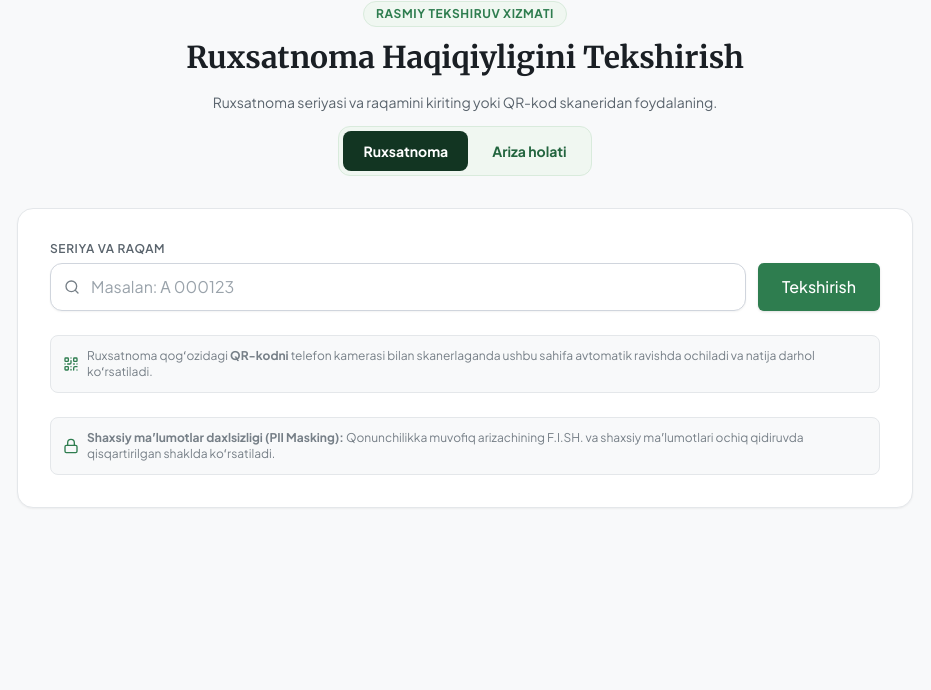
Test: VerifyPage — application arm › never invents field values the API left null
Click the tab "Ariza holati" at point(529, 151), box x1=472 y1=131 x2=586 y2=171
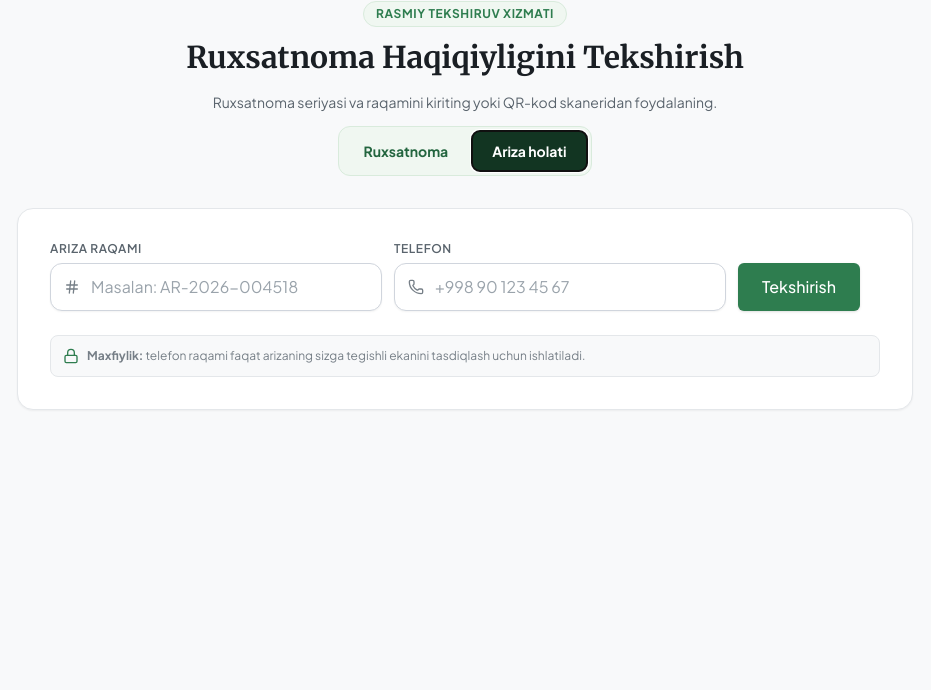
Type "AR-2026-004518" into the field labelled "Ariza raqami" at point(216, 287), box x1=50 y1=263 x2=382 y2=311
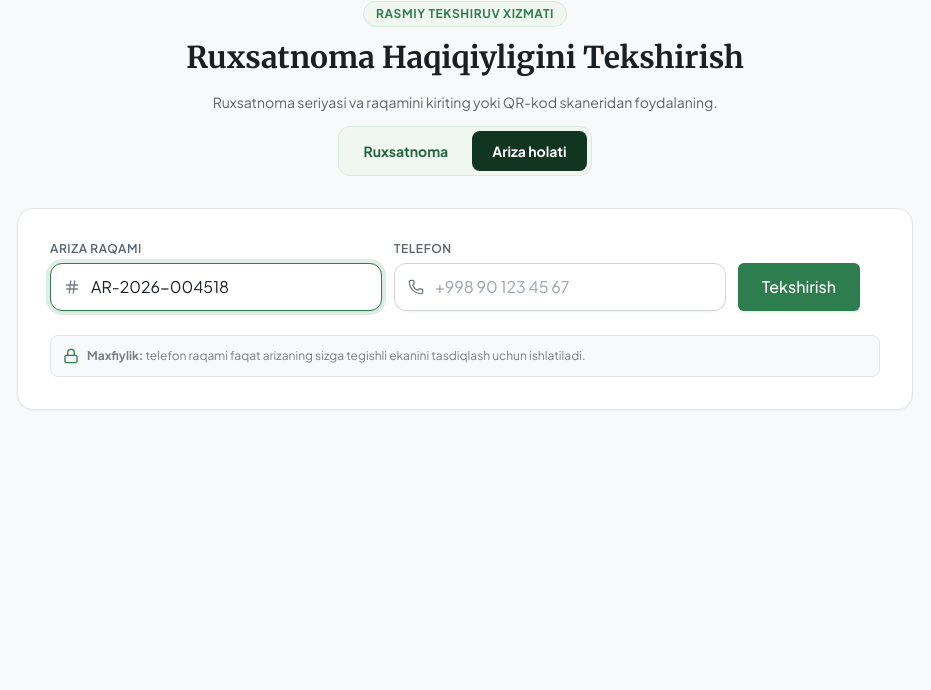
Type "+998901234567" into the field labelled "Telefon" at point(560, 287), box x1=394 y1=263 x2=726 y2=311
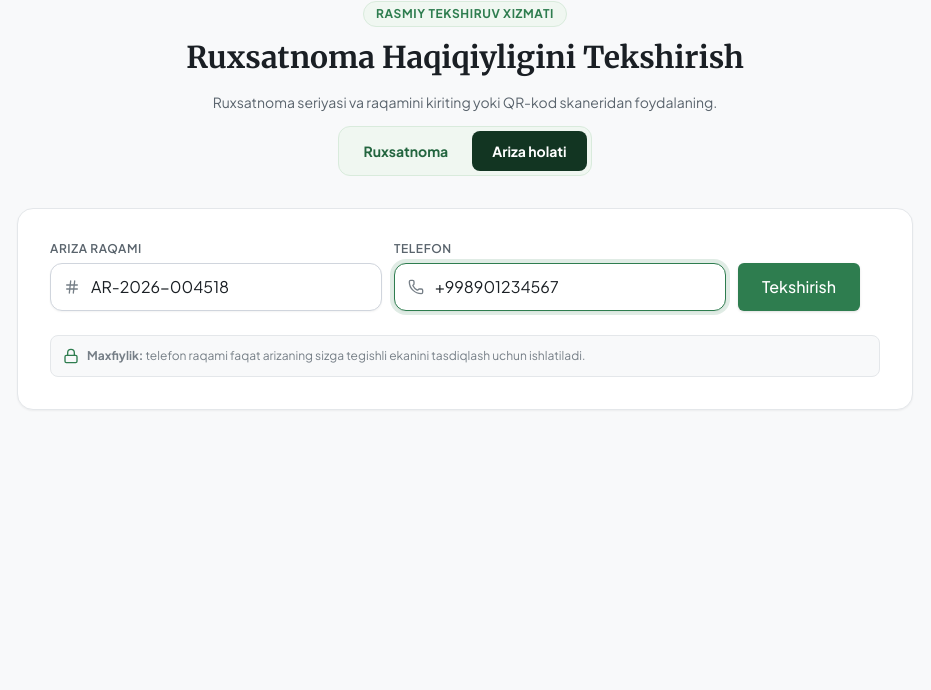
Click the button named "tekshirish" at point(799, 287), box x1=738 y1=263 x2=860 y2=311
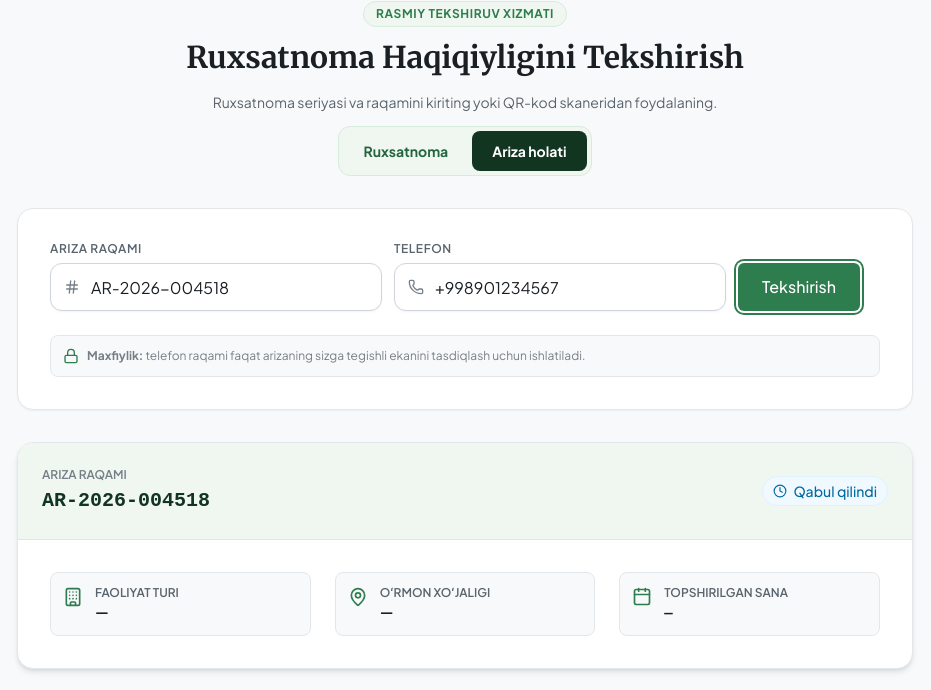
Now the text "Qabul qilindi" is shown, box x1=793 y1=481 x2=877 y2=501
